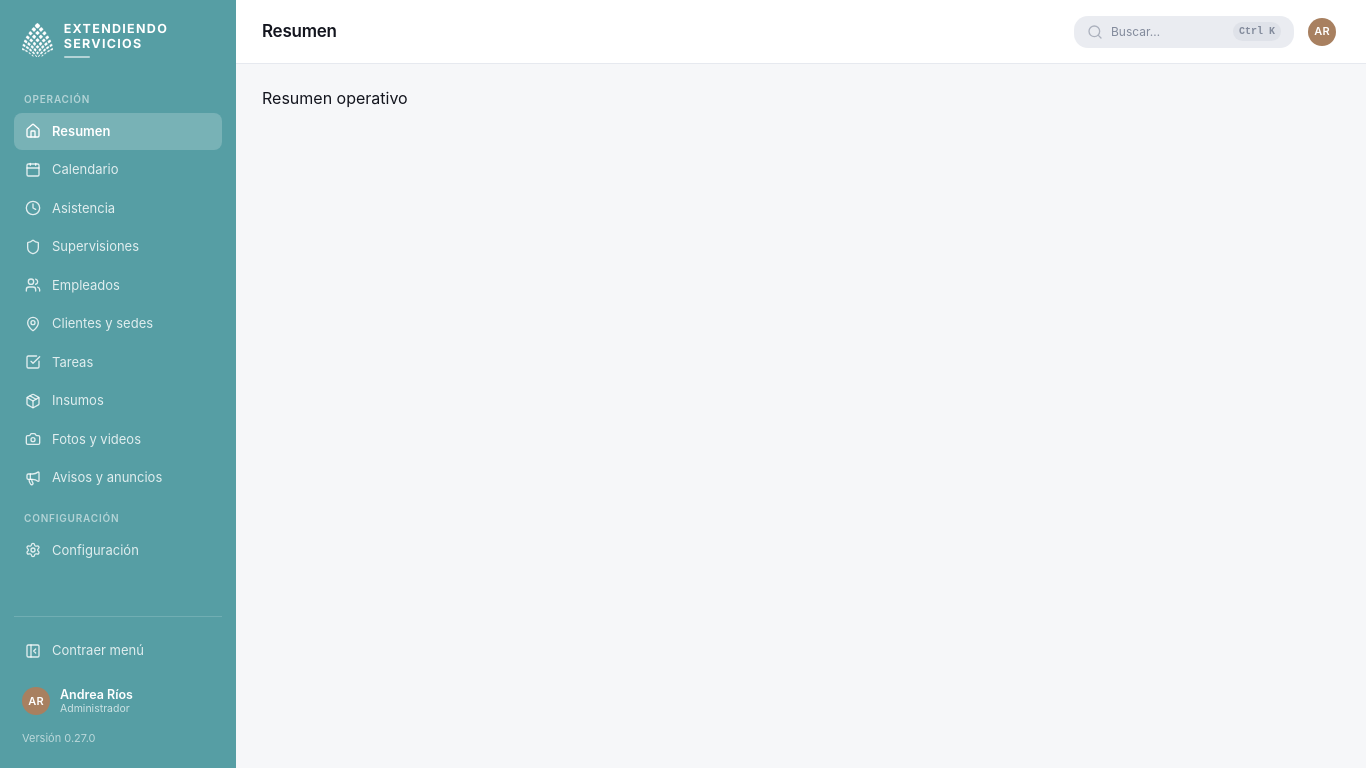
Test: AdminShell — botón para fijar el menú (AJ3-07) › contrae la sidebar a íconos con nombre accesible y la vuelve a expandir
The width and height of the screenshot is (1366, 768).
What coordinates should you click on to do the following:
click the button "Contraer menú"
I would click on:
 (118, 651)
Its box is [14,629,222,673].
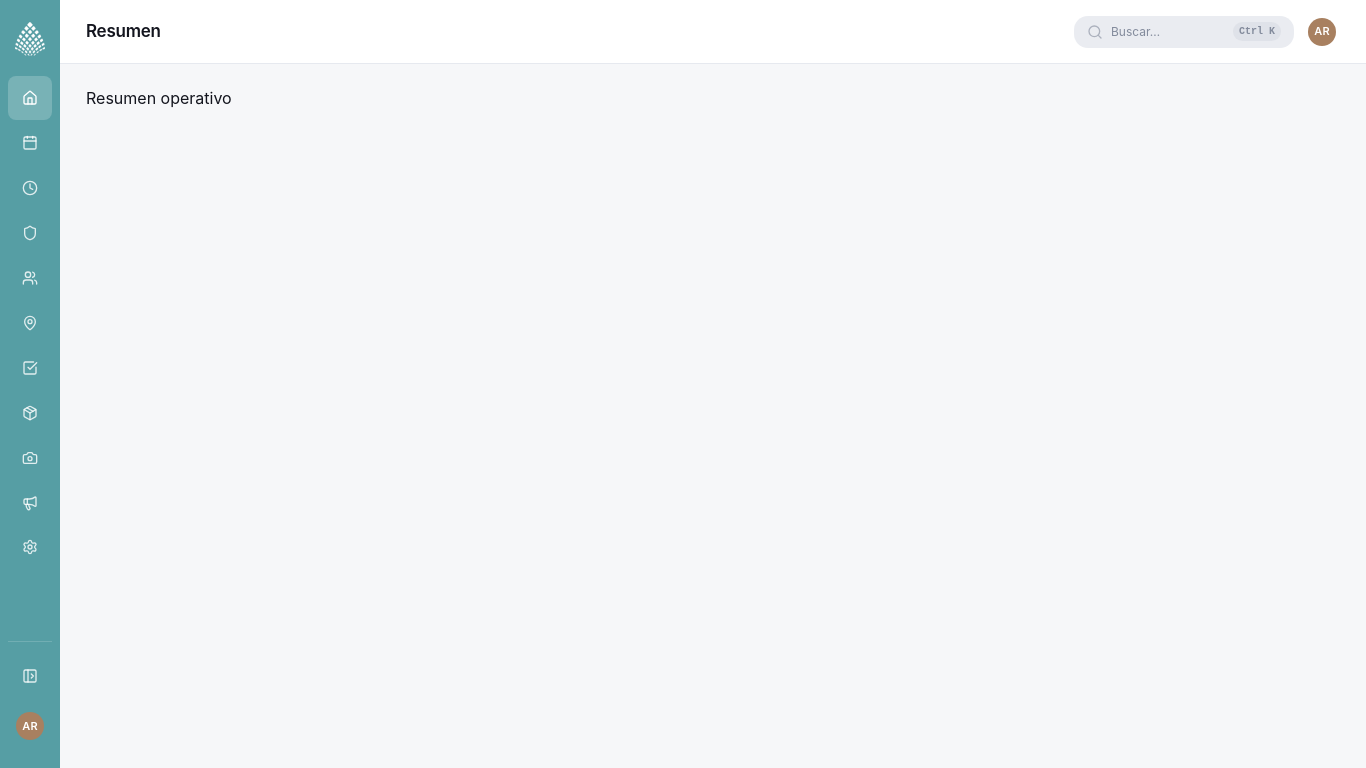
Expected: the link named "Resumen" is shown, [8,76,52,120]
Expected: the text "Operación" is gone
Expected: the button named "Expandir menú" is collapsed
What coordinates should you click on to do the following:
click the button named "Expandir menú"
I would click on:
 (30, 676)
Its box is [8,654,52,698].
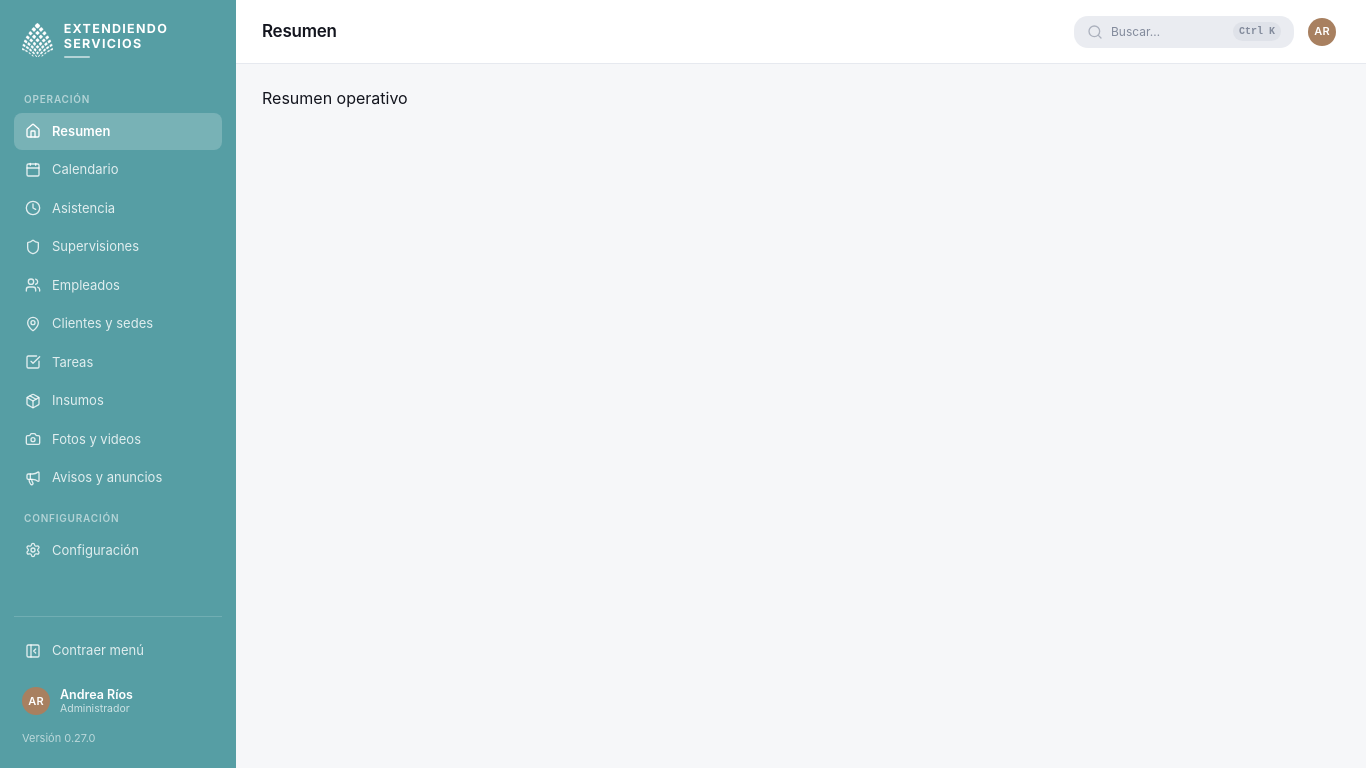
Expected: the text "Operación" is shown, [24,92,90,104]
